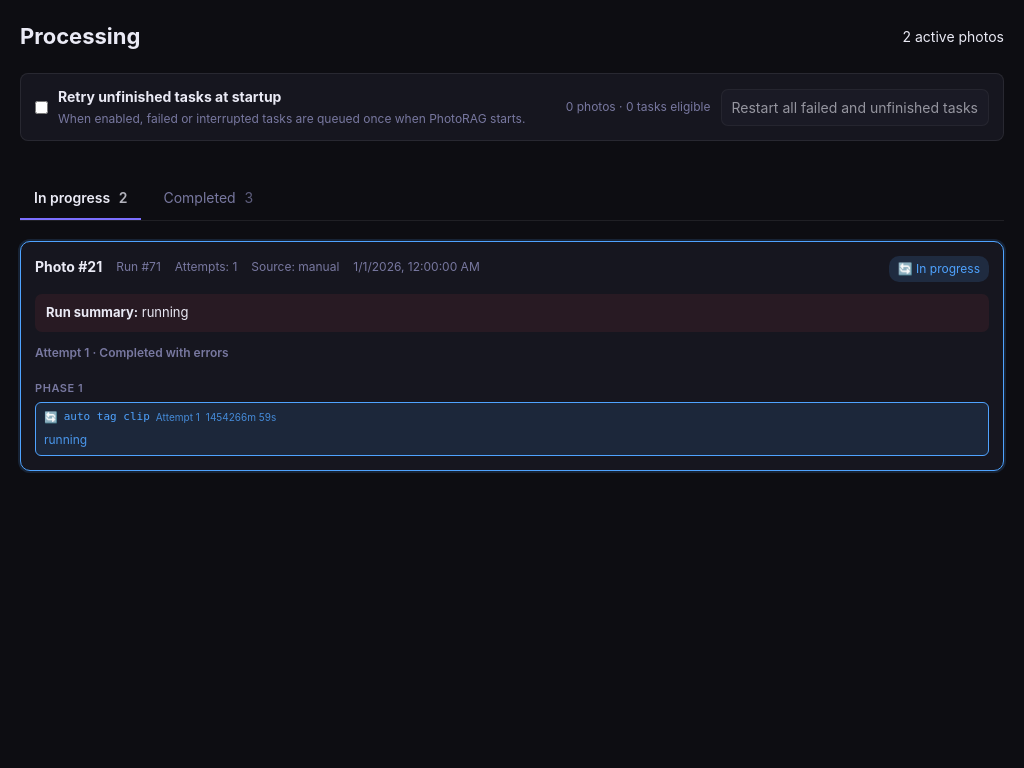
Scenario: JobProcessingPage › keeps both distinct-photo counts visible and collapses completed outputs by default
This screenshot has width=1024, height=768.
Expected: the tab "In progress 2" is shown, [20,177,141,220]
Click the tab "Completed 3" at (208, 198), box [149,177,267,220]
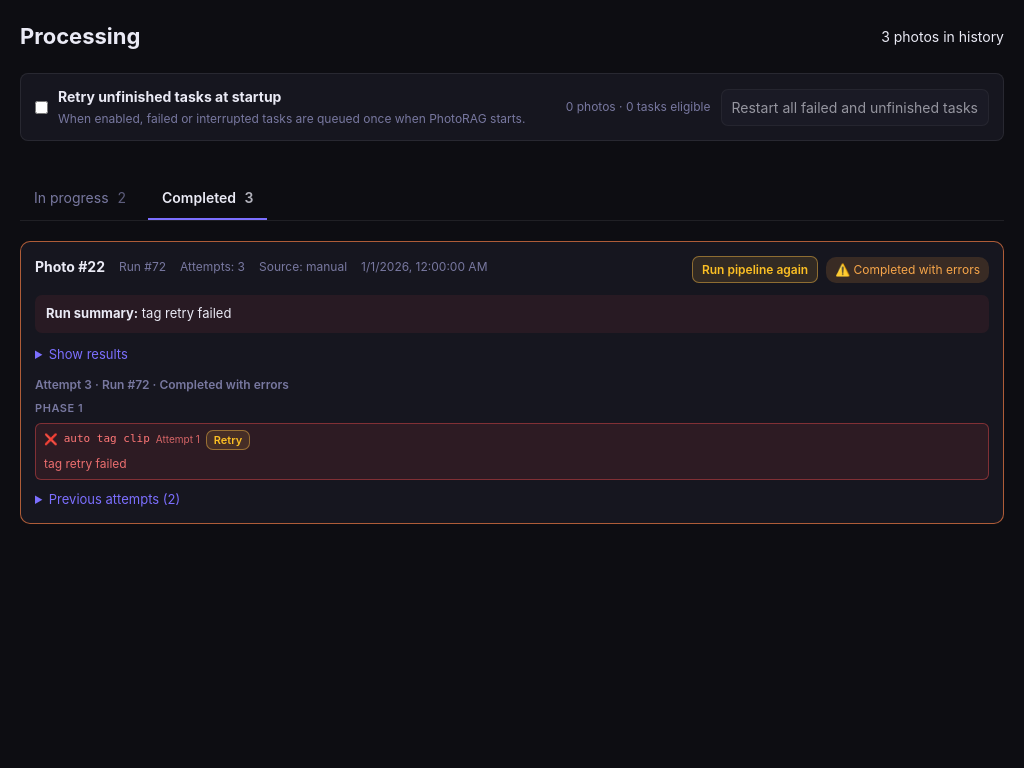
Expected: the text "A completed description" is not shown
Now the text "Photo #22" is shown, box [35,256,105,277]
Now the text "Attempts: 3" is shown, box [180,258,245,276]
Click the heading "Show results" at (81, 354), box [35,344,128,364]
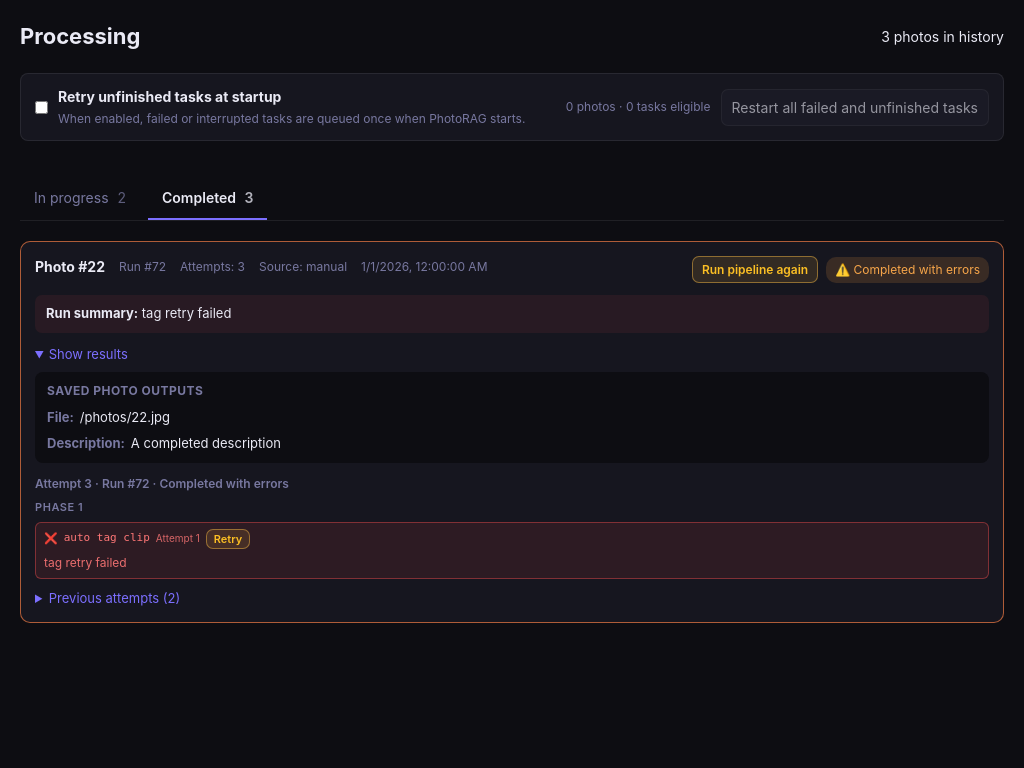
Now the text "A completed description" is shown, box [131,434,281,453]
